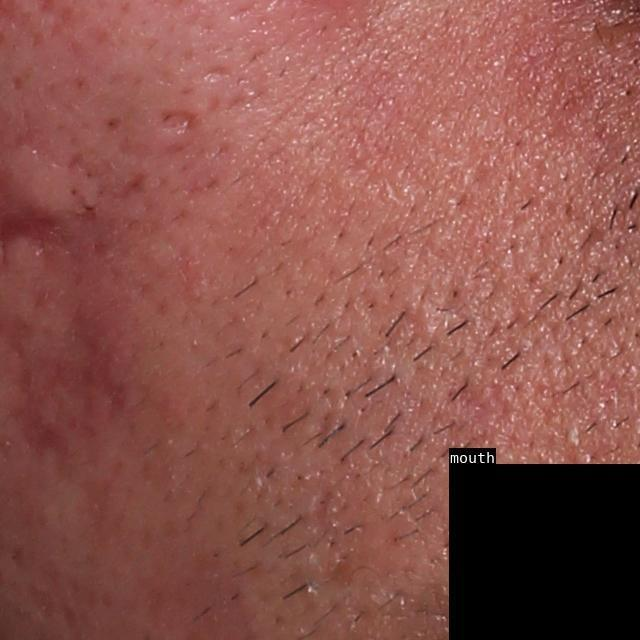atrophic_scar: (157, 101, 198, 134)
hypertrophic_scar: (3, 142, 103, 221)
